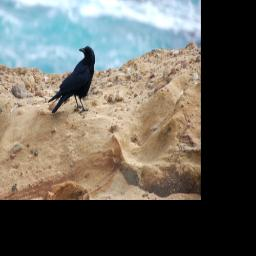Crow: (48, 43, 96, 116)
